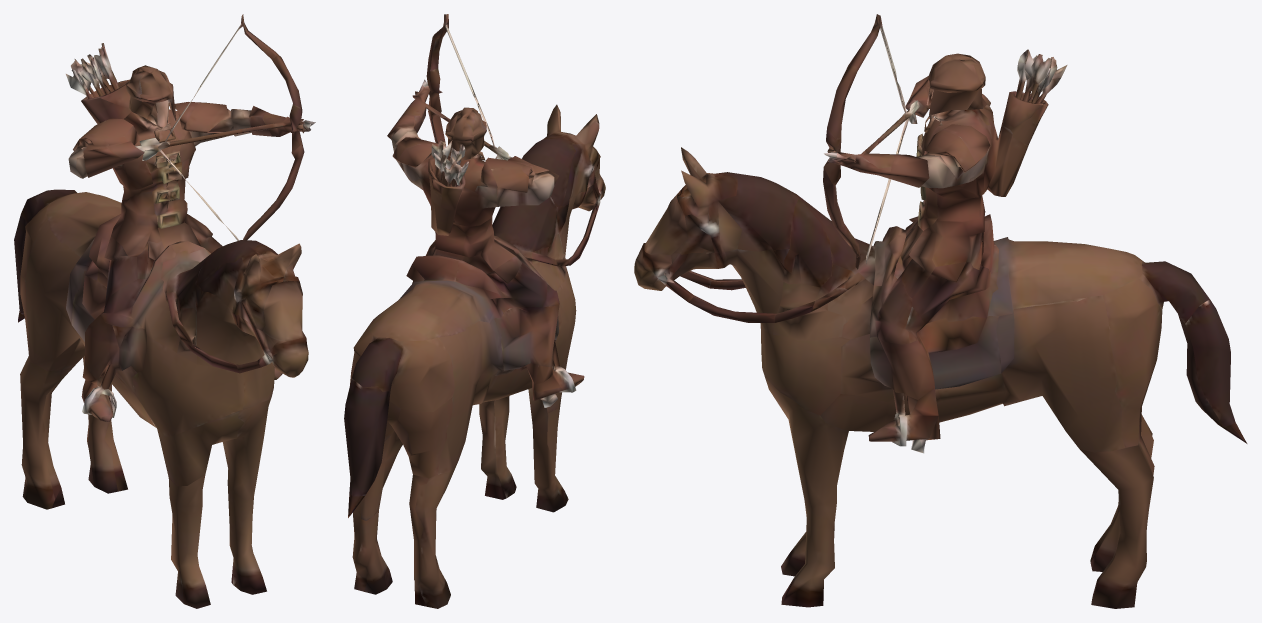
Rendered from horse-lord-t1.glb.
3 renders of one model, left to right at view 1: azimuth 30°, elevation 25°; view 2: azimuth 150°, elevation 25°; view 3: azimuth 270°, elevation 25°, orthographic. The views are drawn at different scales.
Bounding box in the file's own units: 0.7319 × 1.9 × 1.76.
1 material, 1 textured.
